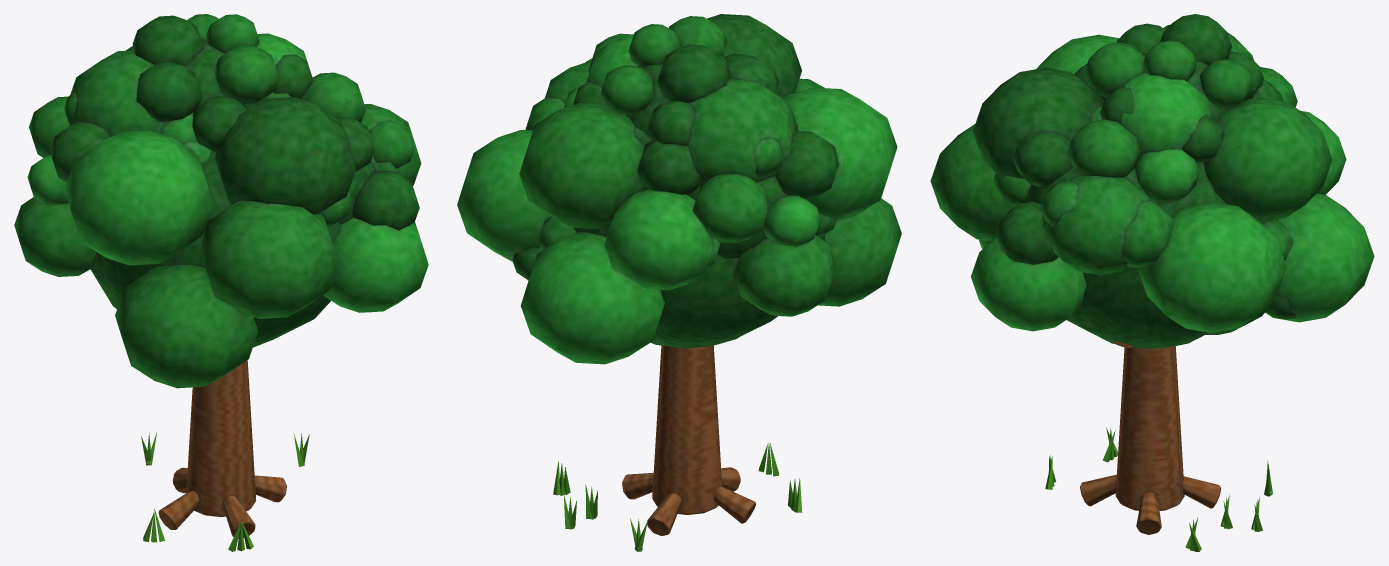
File: kumquat_tree.glb
3 views of the same model, side by side, from view 1: azimuth 30°, elevation 25°; view 2: azimuth 150°, elevation 25°; view 3: azimuth 270°, elevation 25° (orthographic). The views are drawn at different scales.
Parts seen in each view (by area): view 1: crown, kumquat_tree; view 2: crown, kumquat_tree; view 3: crown, kumquat_tree.
Boxes of the visible parts, x1=… form: crown: x1=14, y1=14, x2=428, y2=388; kumquat_tree: x1=141, y1=360, x2=309, y2=551; crown: x1=457, y1=14, x2=901, y2=364; kumquat_tree: x1=553, y1=337, x2=802, y2=551; crown: x1=930, y1=14, x2=1374, y2=348; kumquat_tree: x1=1045, y1=341, x2=1272, y2=551.
Bounding box in the file's own units: 1.07 × 1.36 × 1.15.
1 material, 1 textured.
